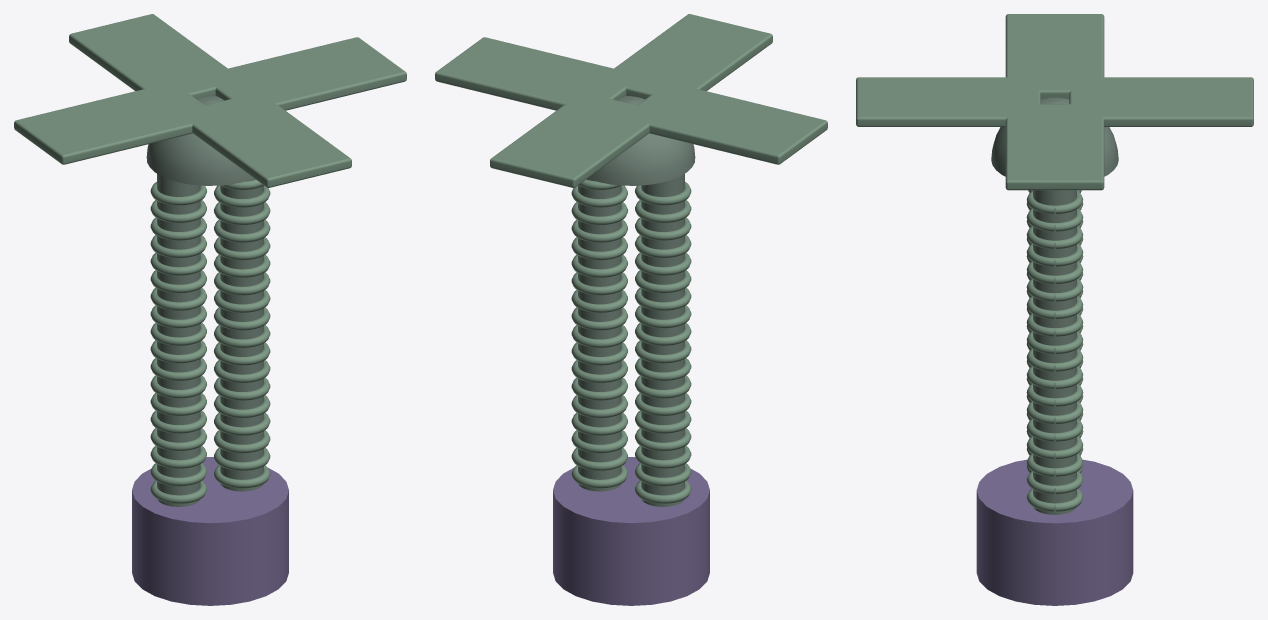
3 views of the same model, side by side, from view 1: azimuth 30°, elevation 25°; view 2: azimuth 150°, elevation 25°; view 3: azimuth 270°, elevation 25° (orthographic).
Visible parts, largest first — view 1: Foundation drum, Radial collector panel.002, Radial collector panel, Radial collector panel.003, Radial collector panel.001, Solar matrix pillar, Solar matrix pillar.001, Solar matrix crown, Solar matrix coil.029, Solar matrix coil.010, Solar matrix coil.018, Solar matrix coil.020 (+31 smaller); view 2: Foundation drum, Radial collector panel.002, Radial collector panel, Radial collector panel.001, Radial collector panel.003, Solar matrix pillar, Solar matrix pillar.001, Solar matrix crown, Solar matrix coil.029, Solar matrix coil.010, Solar matrix coil.018, Solar matrix coil.020 (+31 smaller); view 3: Foundation drum, Radial collector panel, Radial collector panel.001, Radial collector panel.003, Solar matrix pillar.001, Radial collector panel.002, Solar matrix crown, Solar matrix coil.019, Solar matrix coil.021, Solar matrix coil.035, Solar matrix coil.026, Solar matrix coil.028 (+13 smaller).
Boxes of the visible parts, x1,y1,x2,y2 form: Foundation drum: (132,457,288,605); Radial collector panel.002: (14,82,218,164); Radial collector panel: (202,37,406,110); Radial collector panel.003: (180,98,351,187); Radial collector panel.001: (69,14,241,99); Solar matrix pillar: (157,174,200,506); Solar matrix pillar.001: (220,178,263,491); Solar matrix crown: (146,95,253,185); Solar matrix coil.029: (214,272,270,295); Solar matrix coil.010: (150,305,206,328); Solar matrix coil.018: (214,465,270,488); Solar matrix coil.020: (214,430,270,453); Foundation drum: (553,457,709,605); Radial collector panel.002: (626,82,827,164); Radial collector panel: (435,37,638,110); Radial collector panel.001: (490,98,662,187); Radial collector panel.003: (600,14,772,99); Solar matrix pillar: (641,174,684,506); Solar matrix pillar.001: (578,178,621,491); Solar matrix crown: (588,95,695,185); Solar matrix coil.029: (571,272,627,295); Solar matrix coil.010: (635,305,691,328); Solar matrix coil.018: (571,465,627,488); Solar matrix coil.020: (571,430,627,453); Foundation drum: (976,459,1133,605); Radial collector panel: (1005,104,1104,190); Radial collector panel.001: (1069,77,1253,126); Radial collector panel.003: (856,77,1040,126); Solar matrix pillar.001: (1033,190,1076,514); Radial collector panel.002: (1005,14,1104,98); Solar matrix crown: (991,97,1118,176); Solar matrix coil.019: (1026,471,1083,494); Solar matrix coil.021: (1026,436,1083,459); Solar matrix coil.035: (1026,190,1083,213); Solar matrix coil.026: (1026,349,1083,371); Solar matrix coil.028: (1026,314,1083,336).
Bounding box in the file's own units: 2.18 × 2.88 × 2.18.
